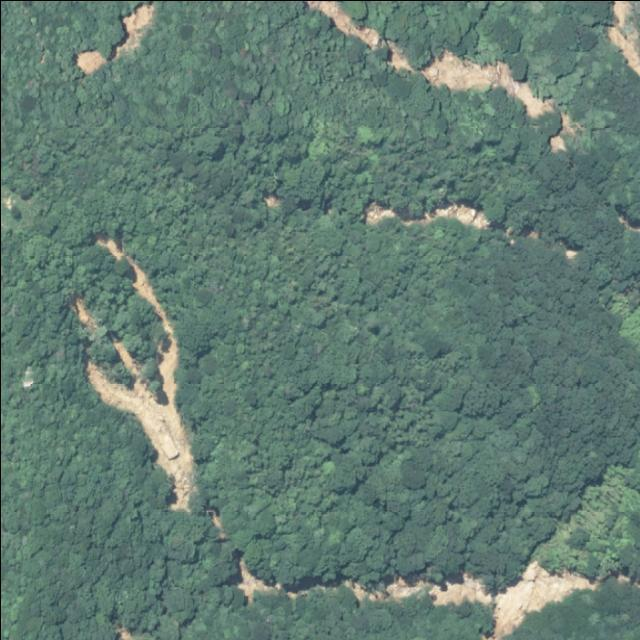landslide: (85, 234, 192, 512), (306, 0, 554, 116), (342, 561, 599, 640), (106, 1, 152, 57), (549, 111, 581, 150), (401, 202, 460, 222), (71, 296, 95, 330), (239, 572, 272, 595), (363, 200, 397, 222), (75, 48, 105, 72), (465, 209, 474, 219)
